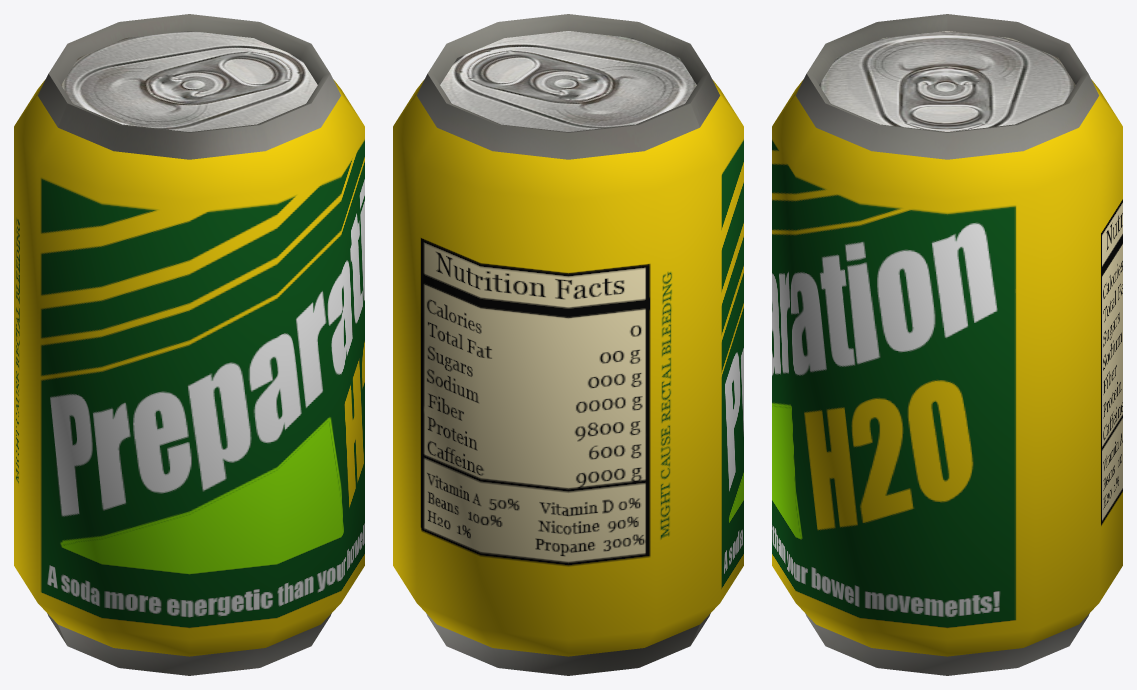
Rendered from PreparationH2OCanFBX.FBX.
3 views of the same model, side by side, from view 1: azimuth 30°, elevation 25°; view 2: azimuth 150°, elevation 25°; view 3: azimuth 270°, elevation 25° (orthographic).
Visible parts, largest first — view 1: SodaCan; view 2: SodaCan; view 3: SodaCan.
Part boxes in pixels (x1,y1,x2,y2): SodaCan: [14, 14, 364, 675]; SodaCan: [393, 14, 743, 675]; SodaCan: [772, 14, 1122, 675].
Size of the model in its own units: 1.64 by 2.8 by 1.64.
